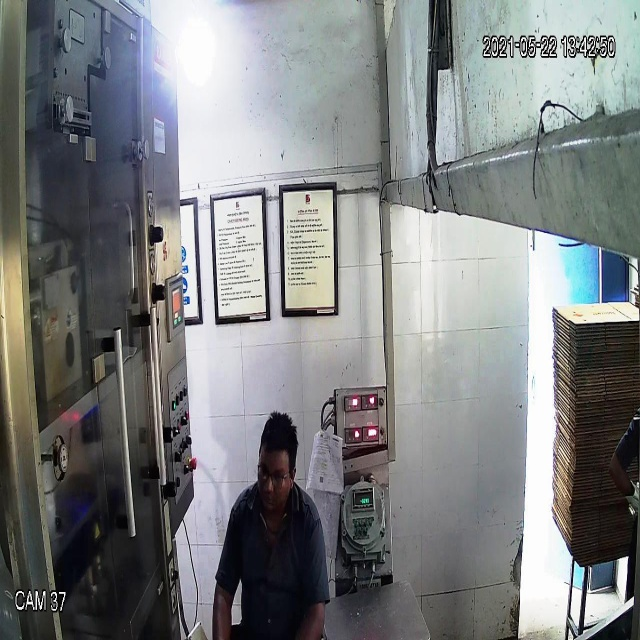Gafas: (254, 457, 297, 492)
